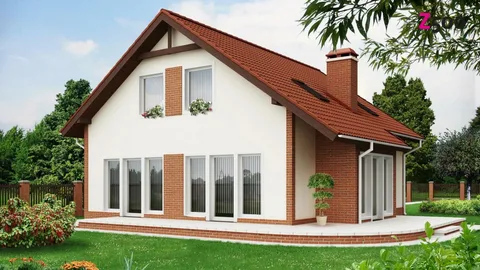private_hause: (70, 17, 418, 236)
